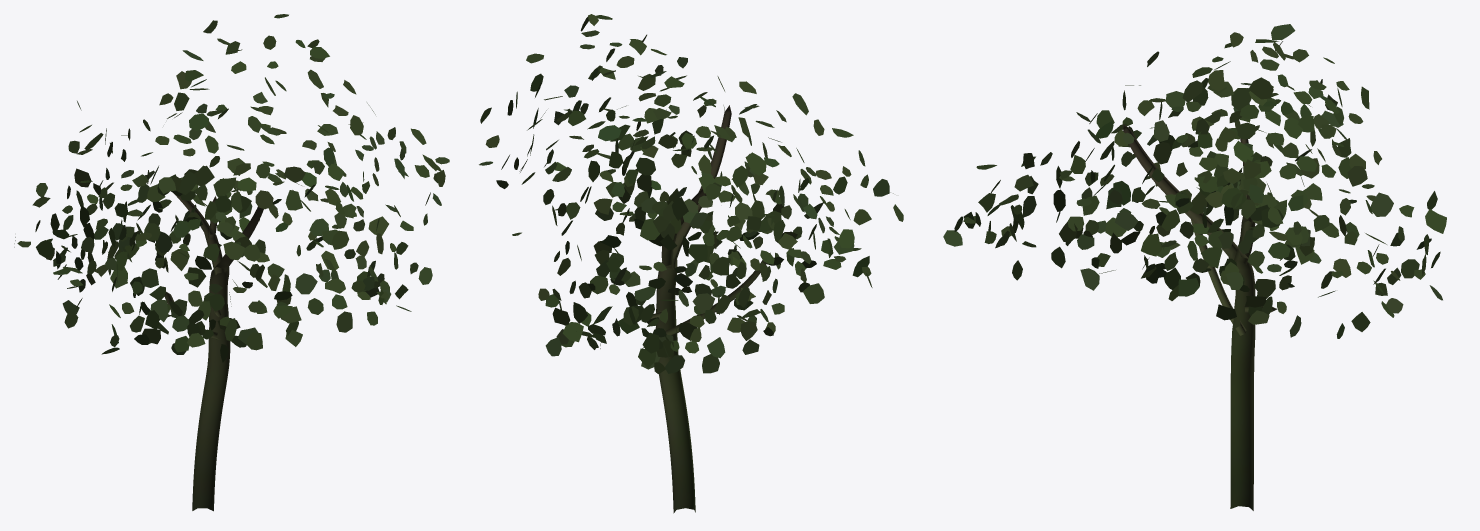
File: SM_TreeFar_hawthorn_1.glb
3 views of the same model, side by side, from view 1: azimuth 30°, elevation 25°; view 2: azimuth 150°, elevation 25°; view 3: azimuth 270°, elevation 25° (orthographic). The views are drawn at different scales.
Visible parts, largest first — view 1: SM_TreeFar_hawthorn_1; view 2: SM_TreeFar_hawthorn_1; view 3: SM_TreeFar_hawthorn_1.
Boxes of the visible parts, bbox=[...] form: SM_TreeFar_hawthorn_1: bbox=[14, 14, 449, 511]; SM_TreeFar_hawthorn_1: bbox=[479, 14, 903, 513]; SM_TreeFar_hawthorn_1: bbox=[943, 24, 1446, 510].
Size of the model in its own units: 4.51 by 5.53 by 5.08.
